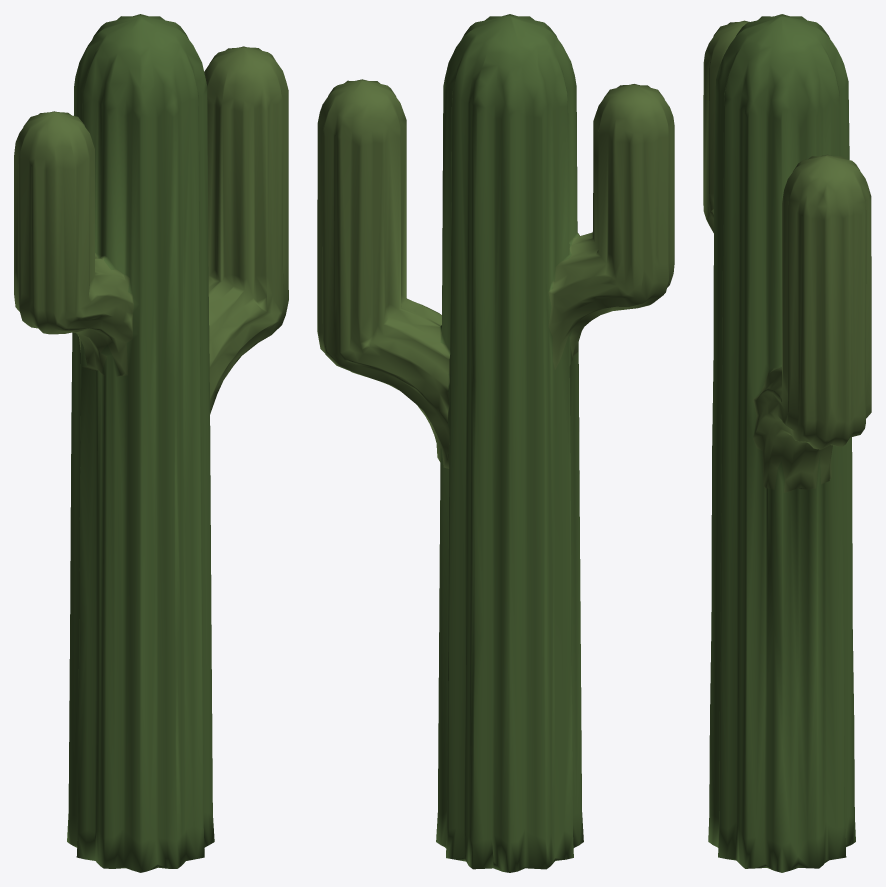
File: frontier-yard-two-arm-legacy.glb
The picture shows the model from 3 angles, left to right: view 1: azimuth 30°, elevation 25°; view 2: azimuth 150°, elevation 25°; view 3: azimuth 270°, elevation 25°; orthographic projection.
Parts seen in each view (by area): view 1: cactus.saguaro_two_arm; view 2: cactus.saguaro_two_arm; view 3: cactus.saguaro_two_arm.
Part boxes in pixels (x1,y1,x2,y2): cactus.saguaro_two_arm: (14, 14, 288, 872); cactus.saguaro_two_arm: (317, 14, 674, 872); cactus.saguaro_two_arm: (703, 14, 871, 872).
Size of the model in its own units: 0.8558 by 2.22 by 0.4098.
